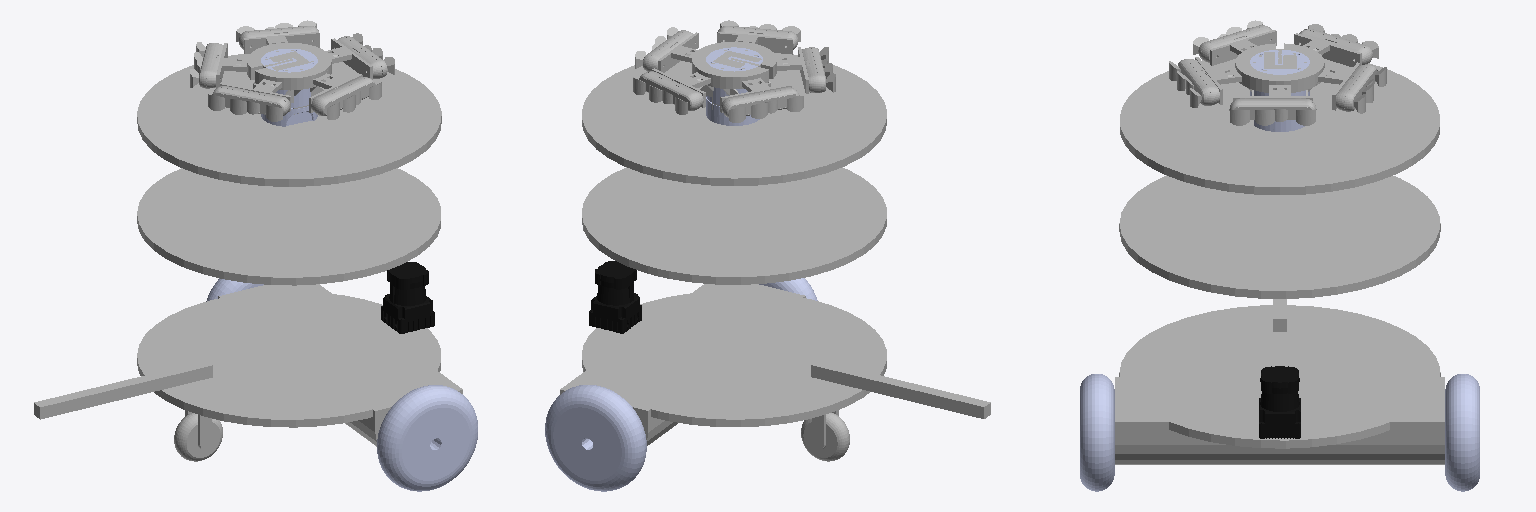
robot.urdf — Beobot_URDF:
<?xml version="1.0" encoding="utf-8"?>
<!-- This URDF was automatically created by SolidWorks to URDF Exporter! Originally created by [author] ([email redacted]) 
     Commit Version: 1.6.0-1-g15f4949  Build Version: 1.6.7594.29634
     For more information, please see http://wiki.ros.org/sw_urdf_exporter -->
<robot
  name="Beobot_URDF">
  <link
    name="base_link">
    <inertial>
      <origin
        xyz="-2.74867128376264E-18 -0.11195728218561 -0.0348475770486717"
        rpy="0 0 0" />
      <mass
        value="12.6734803957436" />
      <inertia
        ixx="0.0962399295509494"
        ixy="4.46153776012135E-18"
        ixz="3.96730545165019E-19"
        iyy="0.279749651250404"
        iyz="-3.56567450144222E-06"
        izz="0.190640162086902" />
    </inertial>
    <visual>
      <origin
        xyz="0 0 0"
        rpy="0 0 0" />
      <geometry>
        <mesh
          filename="package://Beobot_URDF/meshes/base_link.STL" />
      </geometry>
      <material
        name="">
        <color
          rgba="0.752941176470588 0.752941176470588 0.752941176470588 1" />
      </material>
    </visual>
    <collision>
      <origin
        xyz="0 0 0"
        rpy="0 0 0" />
      <geometry>
        <mesh
          filename="package://Beobot_URDF/meshes/base_link.STL" />
      </geometry>
    </collision>
  </link>
  <link
    name="left_wheel">
    <inertial>
      <origin
        xyz="0 0 0.025"
        rpy="0 0 0" />
      <mass
        value="0.963877503284561" />
      <inertia
        ixx="0.00173116001505925"
        ixy="9.09442722940398E-37"
        ixz="7.05860789378559E-22"
        iyy="0.00173116001505925"
        iyz="7.62310521474892E-37"
        izz="0.00310961165234764" />
    </inertial>
    <visual>
      <origin
        xyz="0 0 0"
        rpy="0 0 0" />
      <geometry>
        <mesh
          filename="package://Beobot_URDF/meshes/left_wheel.STL" />
      </geometry>
      <material
        name="">
        <color
          rgba="0.792156862745098 0.819607843137255 0.933333333333333 1" />
      </material>
    </visual>
    <collision>
      <origin
        xyz="0 0 0"
        rpy="0 0 0" />
      <geometry>
        <mesh
          filename="package://Beobot_URDF/meshes/left_wheel.STL" />
      </geometry>
    </collision>
  </link>
  <joint
    name="left_wheel_joint"
    type="continuous">
    <origin
      xyz="0 0.23535 0"
      rpy="1.5708 0 3.1416" />
    <parent
      link="base_link" />
    <child
      link="left_wheel" />
    <axis
      xyz="0 0 1" />
  </joint>
  <link
    name="right_wheel">
    <inertial>
      <origin
        xyz="0 2.08166817117217E-17 -0.0250000000000001"
        rpy="0 0 0" />
      <mass
        value="0.963877503284561" />
      <inertia
        ixx="0.00173116001505925"
        ixy="-5.14894137640762E-36"
        ixz="-1.30593527677662E-21"
        iyy="0.00173116001505925"
        iyz="5.86567729539708E-36"
        izz="0.00310961165234764" />
    </inertial>
    <visual>
      <origin
        xyz="0 0 0"
        rpy="0 0 0" />
      <geometry>
        <mesh
          filename="package://Beobot_URDF/meshes/right_wheel.STL" />
      </geometry>
      <material
        name="">
        <color
          rgba="0.792156862745098 0.819607843137255 0.933333333333333 1" />
      </material>
    </visual>
    <collision>
      <origin
        xyz="0 0 0"
        rpy="0 0 0" />
      <geometry>
        <mesh
          filename="package://Beobot_URDF/meshes/right_wheel.STL" />
      </geometry>
    </collision>
  </link>
  <joint
    name="right_wheel_joint"
    type="continuous">
    <origin
      xyz="0 -0.23535 0"
      rpy="1.5708 0 3.1416" />
    <parent
      link="base_link" />
    <child
      link="right_wheel" />
    <axis
      xyz="0 0 1" />
  </joint>
  <link
    name="Velodine">
    <inertial>
      <origin
        xyz="-0.0462541473474608 0.401957002144411 -3.03270030964584E-14"
        rpy="0 0 0" />
      <mass
        value="15.4073799305962" />
      <inertia
        ixx="0.831266480060712"
        ixy="0.0846918992847239"
        ixz="-7.42541310493356E-14"
        iyy="0.482078145790792"
        iyz="1.90322045506833E-14"
        izz="0.67052569422287" />
    </inertial>
    <visual>
      <origin
        xyz="0 0 0"
        rpy="0 0 0" />
      <geometry>
        <mesh
          filename="package://Beobot_URDF/meshes/Velodine.STL" />
      </geometry>
      <material
        name="">
        <color
          rgba="0.792156862745098 0.819607843137255 0.933333333333333 1" />
      </material>
    </visual>
    <collision>
      <origin
        xyz="0 0 0"
        rpy="0 0 0" />
      <geometry>
        <mesh
          filename="package://Beobot_URDF/meshes/Velodine.STL" />
      </geometry>
    </collision>
  </link>
  <joint
    name="Velodine_joint"
    type="fixed">
    <origin
      xyz="-0.0889 0 0.54034"
      rpy="-1.5708 0 3.1416" />
    <parent
      link="base_link" />
    <child
      link="Velodine" />
    <axis
      xyz="0 0 0" />
  </joint>
  <link
    name="Hokuyo">
    <inertial>
      <origin
        xyz="9.62077521419697E-13 -0.0104575797147916 1.47756675626387E-05"
        rpy="0 0 0" />
      <mass
        value="0.485765672289228" />
      <inertia
        ixx="0.000181662528040023"
        ixy="-9.18790782713934E-15"
        ixz="-3.66479958406851E-18"
        iyy="0.000256014886917181"
        iyz="3.34955142680391E-07"
        izz="0.000181671483298989" />
    </inertial>
    <visual>
      <origin
        xyz="0 0 0"
        rpy="0 0 0" />
      <geometry>
        <mesh
          filename="package://Beobot_URDF/meshes/Hokuyo.STL" />
      </geometry>
      <material
        name="">
        <color
          rgba="0.109803921568627 0.109803921568627 0.109803921568627 1" />
      </material>
    </visual>
    <collision>
      <origin
        xyz="0 0 0"
        rpy="0 0 0" />
      <geometry>
        <mesh
          filename="package://Beobot_URDF/meshes/Hokuyo.STL" />
      </geometry>
    </collision>
  </link>
  <joint
    name="Hokuyo_joint"
    type="fixed">
    <origin
      xyz="0.1162 0 0.099388"
      rpy="1.5708 0 1.5708" />
    <parent
      link="base_link" />
    <child
      link="Hokuyo" />
    <axis
      xyz="0 0 0" />
  </joint>
  <link
    name="realsense_1">
    <inertial>
      <origin
        xyz="-0.000390708981744118 6.0213850732127E-05 -0.00789836120752992"
        rpy="0 0 0" />
      <mass
        value="0.0640757402115452" />
      <inertia
        ixx="4.56933950983258E-06"
        ixy="1.9637026905188E-08"
        ixz="-1.9640169295051E-08"
        iyy="5.78325356119456E-05"
        iyz="-2.70197587000316E-08"
        izz="6.11005211759777E-05" />
    </inertial>
    <visual>
      <origin
        xyz="0 0 0"
        rpy="0 0 0" />
      <geometry>
        <mesh
          filename="package://Beobot_URDF/meshes/realsense_1.STL" />
      </geometry>
      <material
        name="">
        <color
          rgba="0.752941176470588 0.752941176470588 0.752941176470588 1" />
      </material>
    </visual>
    <collision>
      <origin
        xyz="0 0 0"
        rpy="0 0 0" />
      <geometry>
        <mesh
          filename="package://Beobot_URDF/meshes/realsense_1.STL" />
      </geometry>
    </collision>
  </link>
  <joint
    name="realsense_1_joint"
    type="fixed">
    <origin
      xyz="0.04226 -0.01 0.52134"
      rpy="1.5708 0 1.5708" />
    <parent
      link="base_link" />
    <child
      link="realsense_1" />
    <axis
      xyz="0 0 0" />
  </joint>
  <link
    name="realsense_2">
    <inertial>
      <origin
        xyz="-0.000390727714836211 6.02198851966107E-05 -0.00789831950081422"
        rpy="0 0 0" />
      <mass
        value="0.0640758131335188" />
      <inertia
        ixx="4.56932762206531E-06"
        ixy="1.96279388911153E-08"
        ixz="-1.96296361397574E-08"
        iyy="5.78324921080404E-05"
        iyz="-2.70182564959582E-08"
        izz="6.11004660078237E-05" />
    </inertial>
    <visual>
      <origin
        xyz="0 0 0"
        rpy="0 0 0" />
      <geometry>
        <mesh
          filename="package://Beobot_URDF/meshes/realsense_2.STL" />
      </geometry>
      <material
        name="">
        <color
          rgba="0.752941176470588 0.752941176470588 0.752941176470588 1" />
      </material>
    </visual>
    <collision>
      <origin
        xyz="0 0 0"
        rpy="0 0 0" />
      <geometry>
        <mesh
          filename="package://Beobot_URDF/meshes/realsense_2.STL" />
      </geometry>
    </collision>
  </link>
  <joint
    name="realsense_2_joint"
    type="fixed">
    <origin
      xyz="-0.038859 0.12165 0.52134"
      rpy="1.5708 0 2.8274" />
    <parent
      link="base_link" />
    <child
      link="realsense_2" />
    <axis
      xyz="0 0 0" />
  </joint>
  <link
    name="realsense-3">
    <inertial>
      <origin
        xyz="-0.000390711125077596 6.02140272299434E-05 -0.00789829963711089"
        rpy="0 0 0" />
      <mass
        value="0.0640759764530585" />
      <inertia
        ixx="4.56931678268256E-06"
        ixy="1.96354145230679E-08"
        ixz="-1.96294330086947E-08"
        iyy="5.78325523336582E-05"
        iyz="-2.70157100147938E-08"
        izz="6.11005273610629E-05" />
    </inertial>
    <visual>
      <origin
        xyz="0 0 0"
        rpy="0 0 0" />
      <geometry>
        <mesh
          filename="package://Beobot_URDF/meshes/realsense-3.STL" />
      </geometry>
      <material
        name="">
        <color
          rgba="0.752941176470588 0.752941176470588 0.752941176470588 1" />
      </material>
    </visual>
    <collision>
      <origin
        xyz="0 0 0"
        rpy="0 0 0" />
      <geometry>
        <mesh
          filename="package://Beobot_URDF/meshes/realsense-3.STL" />
      </geometry>
    </collision>
  </link>
  <joint
    name="realsense_3_joint"
    type="fixed">
    <origin
      xyz="-0.18913 0.085184 0.52134"
      rpy="1.5708 0 -2.1991" />
    <parent
      link="base_link" />
    <child
      link="realsense-3" />
    <axis
      xyz="0 0 0" />
  </joint>
  <link
    name="realsense-4">
    <inertial>
      <origin
        xyz="-0.000390713924562636 6.02136938450126E-05 -0.00789830922872015"
        rpy="0 0 0" />
      <mass
        value="0.0640759564192247" />
      <inertia
        ixx="4.56931439710641E-06"
        ixy="1.96328703835944E-08"
        ixz="-1.96361731808958E-08"
        iyy="5.78325491710456E-05"
        iyz="-2.70155909066205E-08"
        izz="6.11005263902705E-05" />
    </inertial>
    <visual>
      <origin
        xyz="0 0 0"
        rpy="0 0 0" />
      <geometry>
        <mesh
          filename="package://Beobot_URDF/meshes/realsense-4.STL" />
      </geometry>
      <material
        name="">
        <color
          rgba="0.752941176470588 0.752941176470588 0.752941176470588 1" />
      </material>
    </visual>
    <collision>
      <origin
        xyz="0 0 0"
        rpy="0 0 0" />
      <geometry>
        <mesh
          filename="package://Beobot_URDF/meshes/realsense-4.STL" />
      </geometry>
    </collision>
  </link>
  <joint
    name="realsense_4_joint"
    type="fixed">
    <origin
      xyz="-0.20089 -0.069004 0.52134"
      rpy="1.5708 0 -0.94248" />
    <parent
      link="base_link" />
    <child
      link="realsense-4" />
    <axis
      xyz="0 0 0" />
  </joint>
  <link
    name="realsense-5">
    <inertial>
      <origin
        xyz="-0.000390716753084681 6.02205588272064E-05 -0.00789835961425352"
        rpy="0 0 0" />
      <mass
        value="0.0640758063284641" />
      <inertia
        ixx="4.56932587065373E-06"
        ixy="1.96259913581191E-08"
        ixz="-1.96365139618689E-08"
        iyy="5.78325456694762E-05"
        iyz="-2.70157327693282E-08"
        izz="6.11005215937732E-05" />
    </inertial>
    <visual>
      <origin
        xyz="0 0 0"
        rpy="0 0 0" />
      <geometry>
        <mesh
          filename="package://Beobot_URDF/meshes/realsense-5.STL" />
      </geometry>
      <material
        name="">
        <color
          rgba="0.752941176470588 0.752941176470588 0.752941176470588 1" />
      </material>
    </visual>
    <collision>
      <origin
        xyz="0 0 0"
        rpy="0 0 0" />
      <geometry>
        <mesh
          filename="package://Beobot_URDF/meshes/realsense-5.STL" />
      </geometry>
    </collision>
  </link>
  <joint
    name="realsense_5_joint"
    type="fixed">
    <origin
      xyz="-0.05788 -0.12783 0.52134"
      rpy="1.5708 0 0.31416" />
    <parent
      link="base_link" />
    <child
      link="realsense-5" />
    <axis
      xyz="0 0 0" />
  </joint>
</robot>

--- Facts derived from the render (not from the file) ---
Views: 3 orthographic renders of the robot side by side, from view 1: azimuth 30°, elevation 25°; view 2: azimuth 150°, elevation 25°; view 3: azimuth 270°, elevation 25°.
Model Beobot_URDF with 10 links and 9 joints (2 continuous, 7 fixed), rooted at base_link, posed every joint at zero.
Links seen in each view (by area): view 1: base_link, right_wheel, Hokuyo, realsense-4, realsense-5, Velodine, realsense-3, realsense_1, realsense_2, left_wheel; view 2: base_link, left_wheel, Hokuyo, realsense-3, realsense_2, Velodine, realsense-4, realsense_1, realsense-5, right_wheel; view 3: base_link, left_wheel, right_wheel, Hokuyo, realsense_1, realsense-5, realsense_2, Velodine, realsense-4, realsense-3.
Boxes of the visible links, <box> form: base_link: <box>34,32,462,461</box>; right_wheel: <box>377,385,477,491</box>; Hokuyo: <box>381,262,434,333</box>; realsense-4: <box>208,86,289,121</box>; realsense-5: <box>311,77,381,119</box>; Velodine: <box>261,49,317,126</box>; realsense-3: <box>190,42,223,88</box>; realsense_1: <box>337,33,394,78</box>; realsense_2: <box>236,20,318,49</box>; left_wheel: <box>206,278,263,301</box>; base_link: <box>560,32,990,461</box>; left_wheel: <box>545,385,646,491</box>; Hokuyo: <box>589,261,641,333</box>; realsense-3: <box>721,87,803,122</box>; realsense_2: <box>633,71,703,114</box>; Velodine: <box>706,47,762,125</box>; realsense-4: <box>802,47,835,92</box>; realsense_1: <box>635,27,692,71</box>; realsense-5: <box>717,20,800,49</box>; right_wheel: <box>759,278,817,300</box>; base_link: <box>1115,30,1444,464</box>; left_wheel: <box>1445,374,1479,491</box>; right_wheel: <box>1080,374,1114,491</box>; Hokuyo: <box>1259,366,1300,438</box>; realsense_1: <box>1229,98,1316,125</box>; realsense-5: <box>1169,59,1219,107</box>; realsense_2: <box>1335,64,1386,113</box>; Velodine: <box>1250,50,1309,131</box>; realsense-4: <box>1193,20,1271,62</box>; realsense-3: <box>1299,24,1378,64</box>.
Bounding box of the posed robot: 0.6724 × 0.5707 × 0.6245 m (x, y, z).
10 mesh visuals loaded from 10 distinct referenced files (10 binary STL).